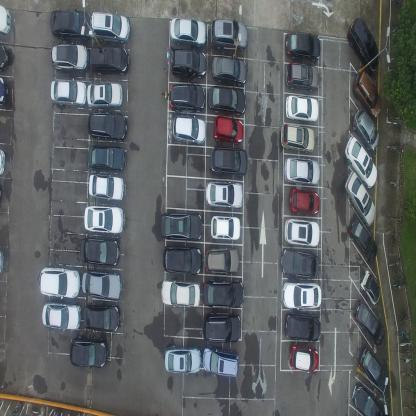car: (347, 17, 380, 73), (344, 136, 378, 189), (345, 170, 376, 228), (353, 299, 386, 347), (348, 213, 378, 264), (352, 68, 382, 119), (38, 266, 80, 300), (49, 8, 92, 40), (91, 10, 131, 44), (81, 269, 122, 301), (202, 310, 241, 343), (69, 334, 108, 367), (160, 211, 202, 241), (202, 278, 244, 308), (208, 83, 246, 116), (84, 204, 125, 234), (281, 280, 322, 310), (203, 344, 239, 378), (211, 18, 247, 52), (205, 178, 243, 210), (210, 146, 248, 178), (162, 244, 202, 274), (87, 111, 127, 141), (80, 237, 120, 267), (352, 108, 379, 152), (168, 82, 206, 113), (161, 276, 200, 306), (170, 17, 206, 49), (90, 46, 128, 76), (83, 302, 121, 332), (280, 249, 319, 278), (172, 113, 206, 146), (352, 382, 386, 415), (212, 54, 247, 86), (41, 302, 81, 330), (49, 44, 89, 72), (284, 30, 320, 61), (165, 343, 202, 373), (285, 61, 319, 93), (170, 48, 206, 78), (50, 78, 86, 108), (284, 156, 320, 186), (283, 313, 321, 341), (281, 122, 315, 153), (87, 144, 126, 171), (284, 218, 320, 247), (359, 347, 385, 387), (87, 174, 124, 202), (205, 245, 239, 274), (87, 82, 123, 109), (212, 115, 244, 145), (285, 95, 318, 124), (289, 344, 319, 374), (209, 214, 240, 241), (289, 188, 320, 215), (359, 269, 381, 306), (0, 3, 12, 36), (0, 41, 9, 71), (0, 74, 7, 108), (0, 145, 6, 176)
